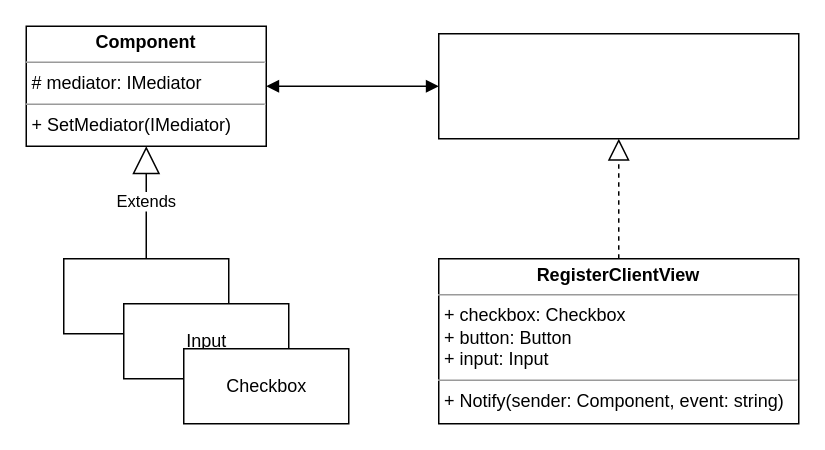
This 825x450 diagram has some shape labels left out. Here are the shapes that lost their labels. From the top down, the centre of each, then its label:
point 618,85: <<Interface>> IMediator + Notify(sender: Component, event: string)
point 145,295: Button
